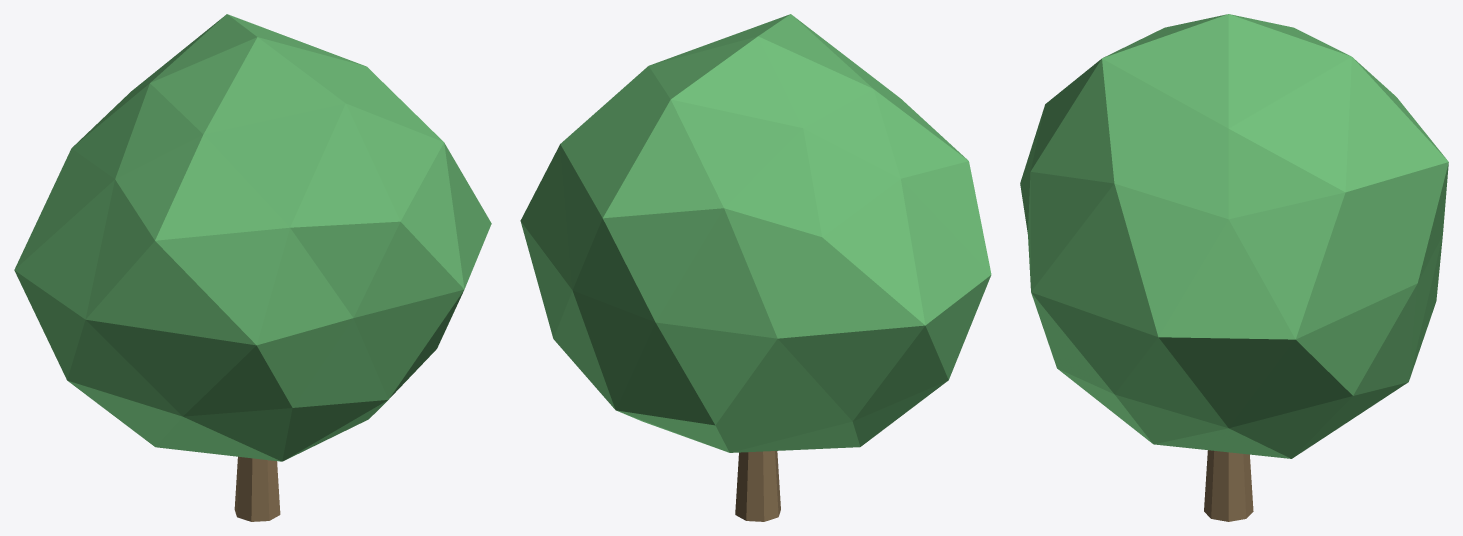
Rendered from willow_tree_1.glb.
3 views of the same model, side by side, from view 1: azimuth 30°, elevation 25°; view 2: azimuth 150°, elevation 25°; view 3: azimuth 270°, elevation 25° (orthographic). The views are drawn at different scales.
Parts seen in each view (by area): view 1: willow_tree_1_canopy, willow_tree_1_trunk; view 2: willow_tree_1_canopy, willow_tree_1_trunk; view 3: willow_tree_1_canopy, willow_tree_1_trunk.
Part boxes in pixels (x1,y1,x2,y2): willow_tree_1_canopy: [14, 14, 491, 461]; willow_tree_1_trunk: [234, 456, 280, 521]; willow_tree_1_canopy: [520, 14, 991, 452]; willow_tree_1_trunk: [735, 451, 780, 521]; willow_tree_1_canopy: [1020, 14, 1448, 458]; willow_tree_1_trunk: [1204, 450, 1253, 521].
Bounding box in the file's own units: 6.5 × 7.19 × 5.62.
